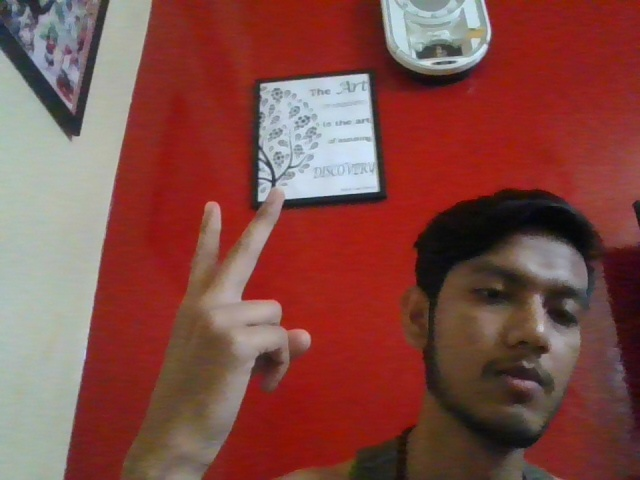LiveLong: (192, 188, 312, 425)
